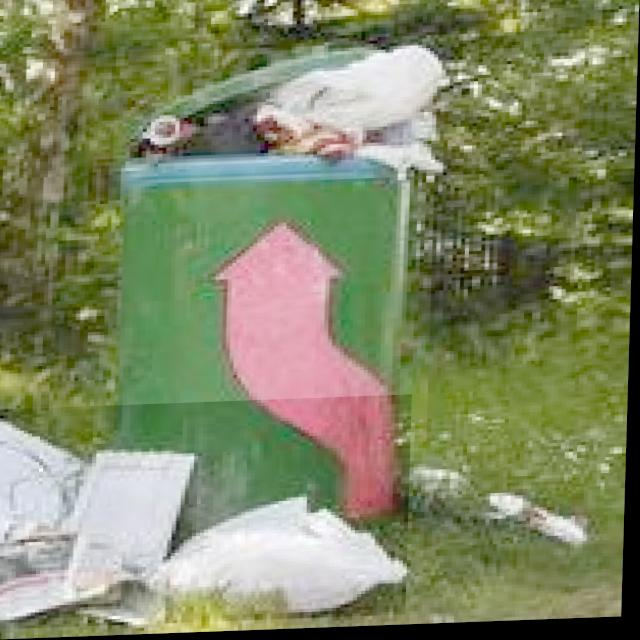garbage: (0, 397, 414, 630), (415, 466, 588, 554)
overflow: (105, 45, 439, 541)
